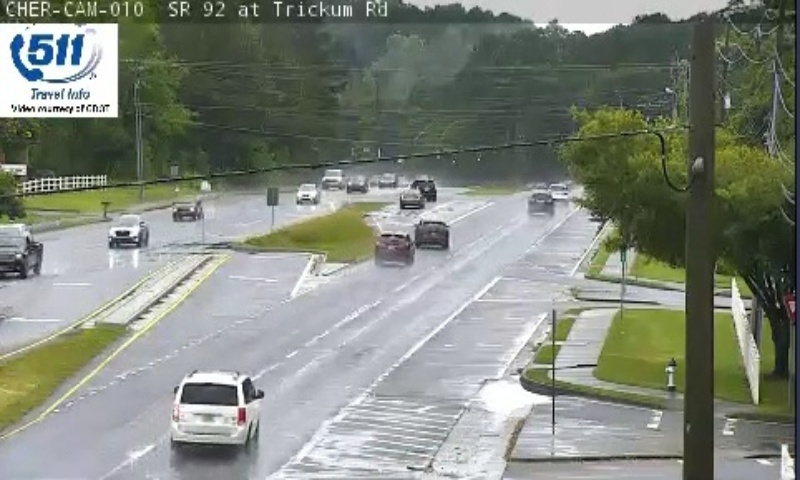car: (170, 373, 260, 445), (375, 232, 413, 263), (414, 220, 448, 247)
